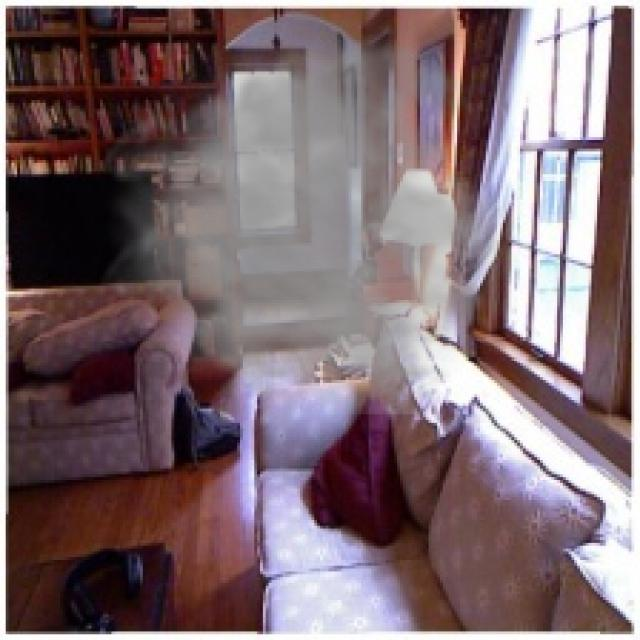smoke: (97, 0, 518, 415)
